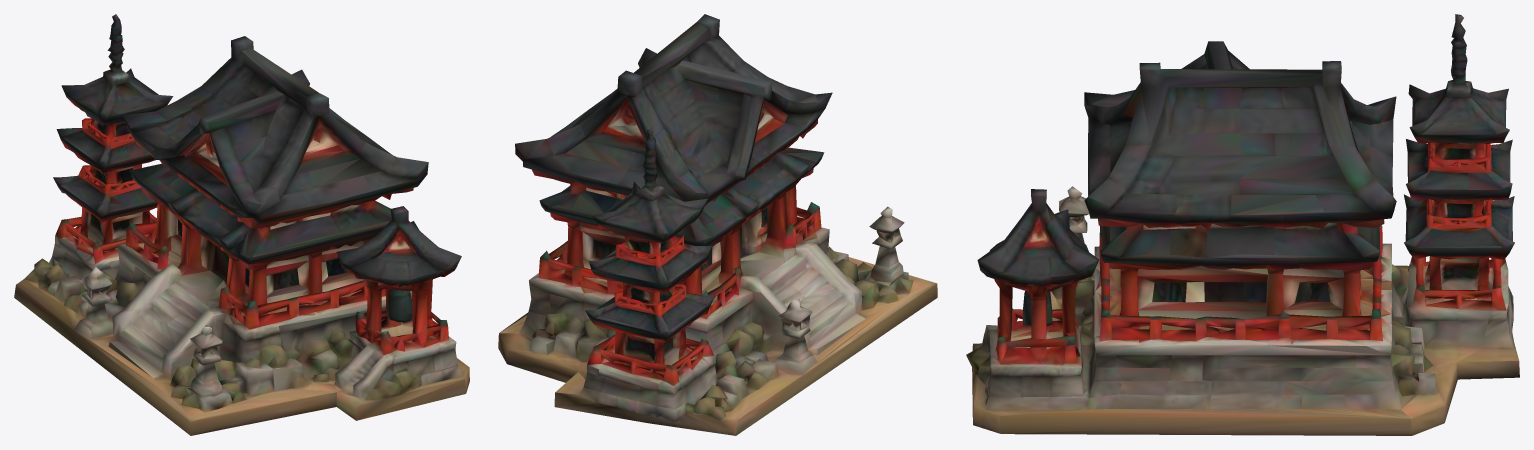
File: temple_t3.glb
The picture shows the model from 3 angles, left to right: view 1: azimuth 30°, elevation 25°; view 2: azimuth 150°, elevation 25°; view 3: azimuth 270°, elevation 25°; orthographic projection. The views are drawn at different scales.
Visible parts, largest first — view 1: tripo_node_b570645a-5603-4c58-a4b7-e3eade1748e1; view 2: tripo_node_b570645a-5603-4c58-a4b7-e3eade1748e1; view 3: tripo_node_b570645a-5603-4c58-a4b7-e3eade1748e1.
Boxes of the visible parts, x1,y1,x2,y2 form: tripo_node_b570645a-5603-4c58-a4b7-e3eade1748e1: (14, 14, 469, 435); tripo_node_b570645a-5603-4c58-a4b7-e3eade1748e1: (498, 14, 937, 435); tripo_node_b570645a-5603-4c58-a4b7-e3eade1748e1: (966, 14, 1519, 435).
Bounding box in the file's own units: 0.6621 × 0.6318 × 0.9805.
Materials: 1 (1 with a texture image).
